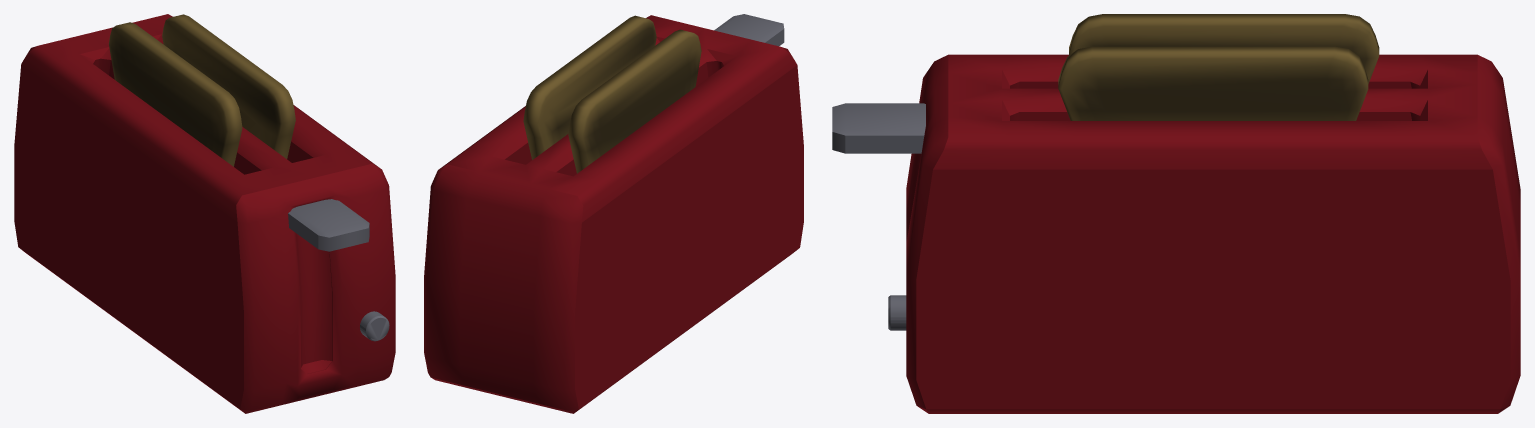
File: paahdin1.fbx
3 renders of one model, left to right at view 1: azimuth 30°, elevation 25°; view 2: azimuth 150°, elevation 25°; view 3: azimuth 270°, elevation 25°, orthographic. The views are drawn at different scales.
Parts seen in each view (by area): view 1: valmis paahin; view 2: valmis paahin; view 3: valmis paahin.
Boxes of the visible parts, <box> form: valmis paahin: <box>14,14,395,413</box>; valmis paahin: <box>424,14,803,413</box>; valmis paahin: <box>832,14,1520,413</box>.
Size of the model in its own units: 30.31 by 49.6 by 92.12.
